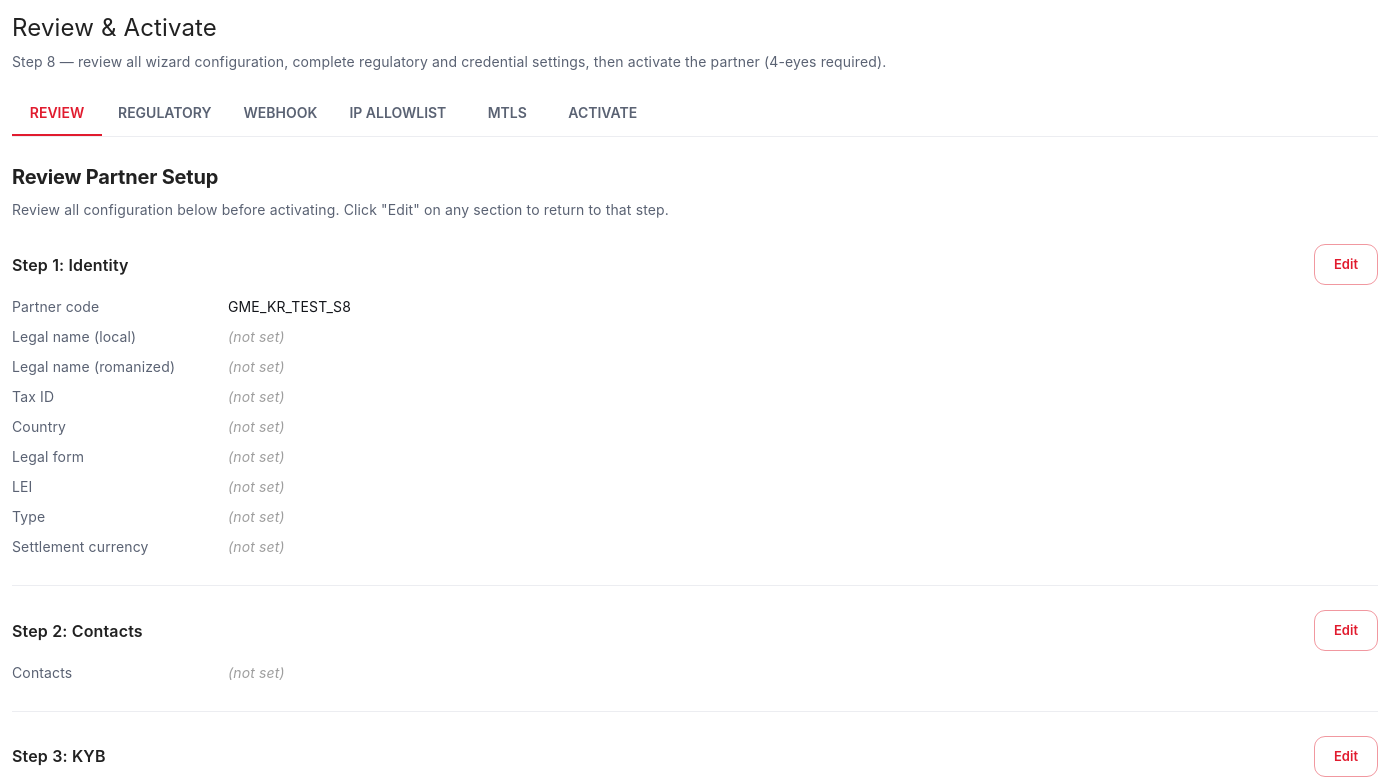
Scenario: Step8Form › switches to mTLS tab
Click the tab with aria-label "tab-mtls".
click(507, 112)  # box [462,88,552,136]
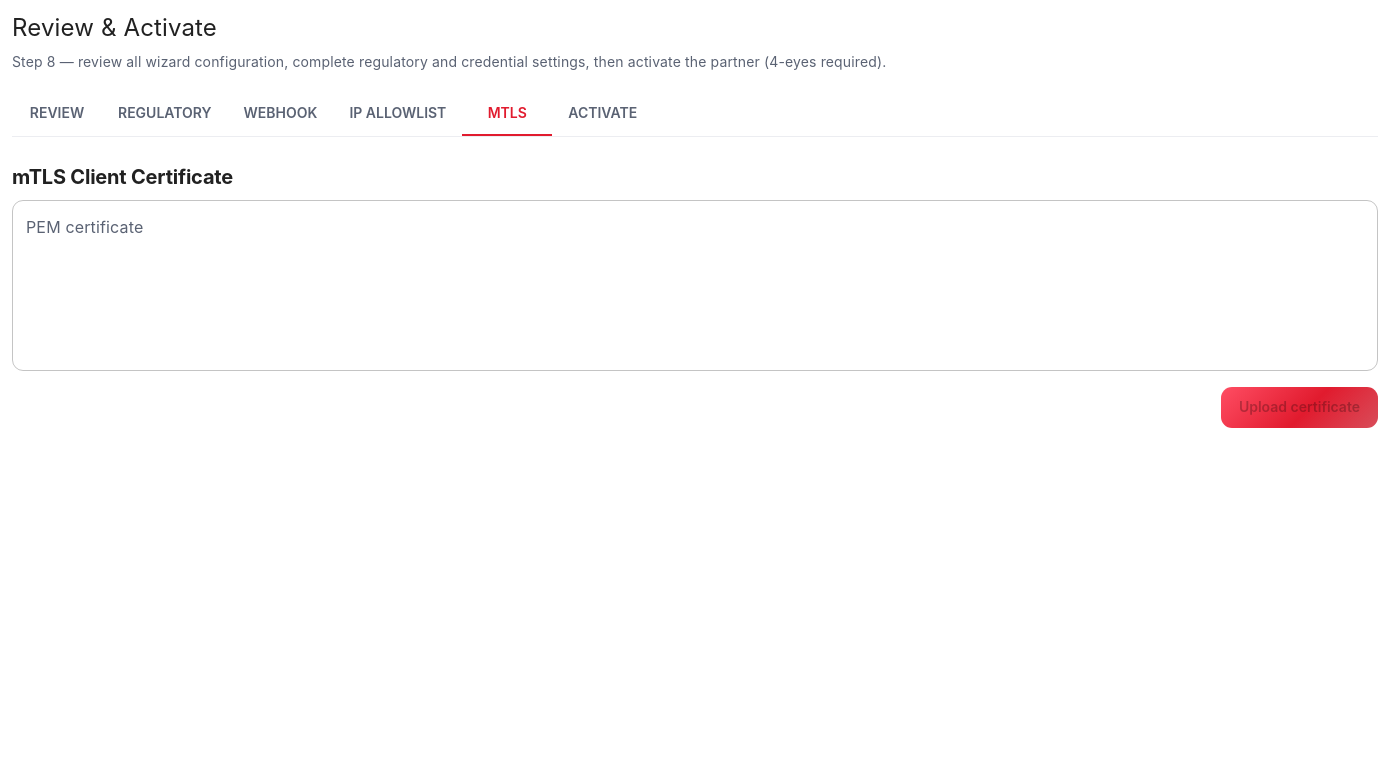
expect the element named "mtls-cert-section" is shown: met, box [12,161,1378,428]
